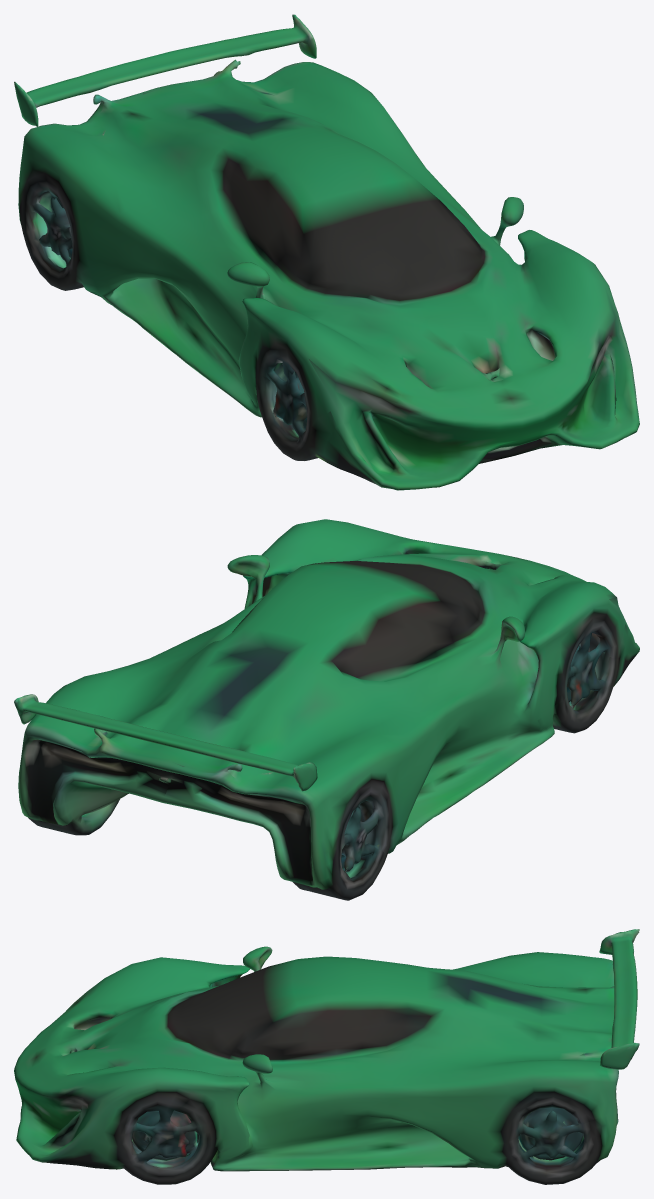
The model's file is 6449614-emerald-hypercar-10k.glb.
3 renders of one model, top to bottom at view 1: azimuth 30°, elevation 25°; view 2: azimuth 150°, elevation 25°; view 3: azimuth 270°, elevation 25°, orthographic. The views are drawn at different scales.
Visible parts, largest first — view 1: Retopo_neural_node_96dd8c78-4dc9-4a78-96b9-d987bf7838ea; view 2: Retopo_neural_node_96dd8c78-4dc9-4a78-96b9-d987bf7838ea; view 3: Retopo_neural_node_96dd8c78-4dc9-4a78-96b9-d987bf7838ea.
Boxes of the visible parts, x1,y1,x2,y2 form: Retopo_neural_node_96dd8c78-4dc9-4a78-96b9-d987bf7838ea: (14,14,639,490); Retopo_neural_node_96dd8c78-4dc9-4a78-96b9-d987bf7838ea: (14,519,639,900); Retopo_neural_node_96dd8c78-4dc9-4a78-96b9-d987bf7838ea: (14,929,639,1184).
Bounding box in the file's own units: 0.4593 × 0.2547 × 0.9456.
